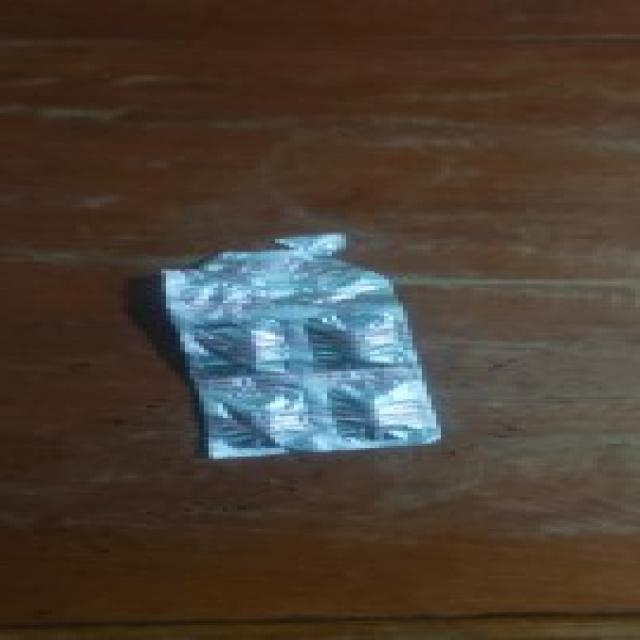Cacat: (152, 227, 450, 457)
Kemasan: (156, 234, 386, 295)
